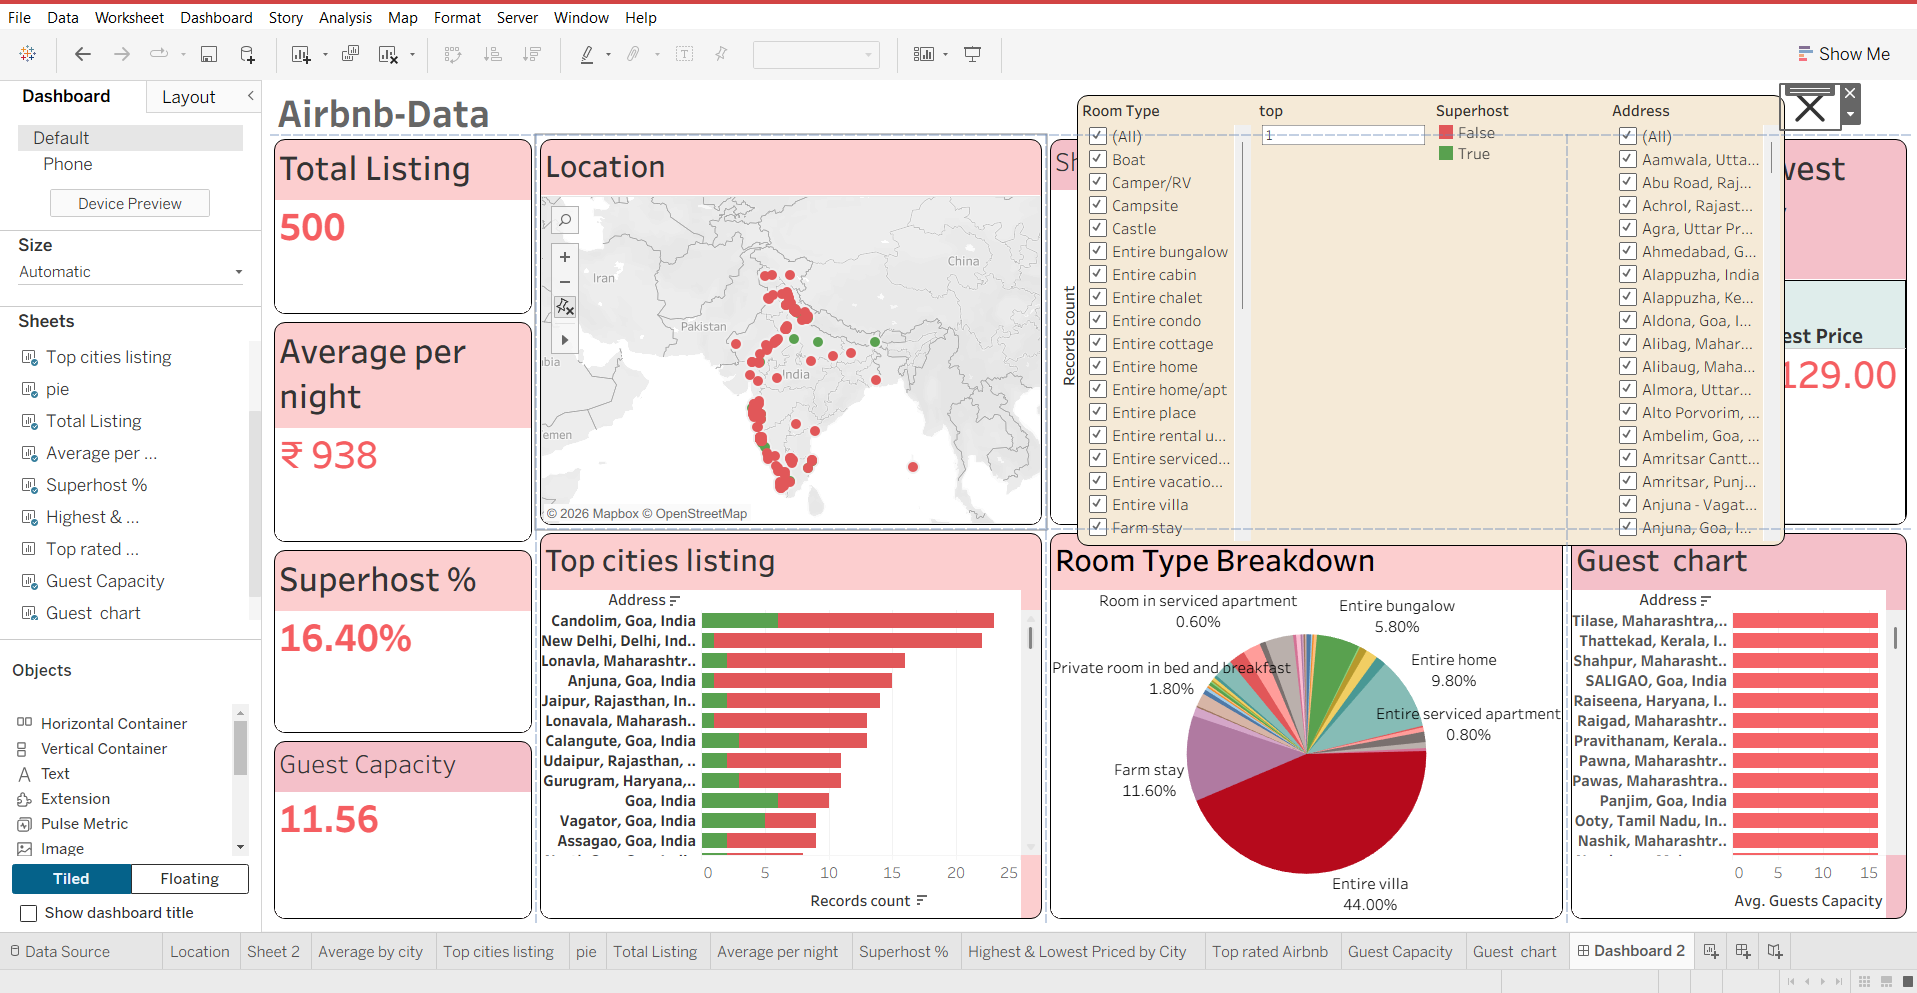

Layout of this report page (visuals, bound fields, positions):
{"tool":"tableau","page":{"name":"Dashboard 2","canvas":[1000,1000],"units":"permille","ordinal":1},"visuals":[{"type":"text","box":[4.8,9.4,990.4,55.2]},{"type":"worksheet","title":"Total Listing","mark":"Automatic","box":[4.8,64.6,160.7,159.3]},{"type":"worksheet","title":"Sheet 1","mark":"Automatic","rows":["location/lat"],"cols":["location/lng"],"box":[165.5,64.6,307.7,416]},{"type":"worksheet","title":"Guest  chart","mark":"Bar","rows":["address"],"cols":["numberOfGuests"],"box":[473.2,64.6,337.8,463]},{"type":"filter","title":"Average per night","param":"[federated.01k5xde1sjipj413ruxtb0xr965a].[none:roomType:nk]","box":[813.4,69.3,117.4,916.6]},{"type":"parameter","param":"[Parameters].[Parameter 1046778632982529]","box":[930.8,69.3,19.3,916.6]},{"type":"legend","title":"Sheet 1","param":"[federated.01k5xde1sjipj413ruxtb0xr965a].[none:isHostedBySuperhost:nk]","box":[950,69.3,42.8,916.6]},{"type":"worksheet","title":"Average per night","mark":"Automatic","box":[4.8,224,160.7,212.2]},{"type":"worksheet","title":"Superhost %","mark":"Automatic","box":[4.8,436.2,160.7,159.3]},{"type":"worksheet","title":"top cities listing","mark":"Automatic","rows":["address"],"cols":["Calculation_1046778630561792"],"box":[165.5,480.6,307.7,510]},{"type":"worksheet","title":"pie","mark":"Pie","box":[473.2,527.6,337.8,463]},{"type":"worksheet","title":"Highest & Lowest Priced by City","mark":"Automatic","box":[4.8,595.5,160.7,395.1]}]}

Visuals, with their boxes on the dashboard's canvas, which has no fixed pixel size, in thousandths of its width and height (x1, y1, x2, y2). These are canvas units, not pixel positions in the 1917x993 screenshot, which may show the page scaled, cropped or inside an application window:
text: {"x1": 5, "y1": 9, "x2": 995, "y2": 65}
"Total Listing" worksheet: {"x1": 5, "y1": 65, "x2": 166, "y2": 224}
"Sheet 1" worksheet: {"x1": 166, "y1": 65, "x2": 473, "y2": 481}
"Guest  chart" worksheet (Bar marks): {"x1": 473, "y1": 65, "x2": 811, "y2": 528}
"Average per night" filter: {"x1": 813, "y1": 69, "x2": 931, "y2": 986}
parameter: {"x1": 931, "y1": 69, "x2": 950, "y2": 986}
"Sheet 1" legend: {"x1": 950, "y1": 69, "x2": 993, "y2": 986}
"Average per night" worksheet: {"x1": 5, "y1": 224, "x2": 166, "y2": 436}
"Superhost %" worksheet: {"x1": 5, "y1": 436, "x2": 166, "y2": 596}
"top cities listing" worksheet: {"x1": 166, "y1": 481, "x2": 473, "y2": 991}
"pie" worksheet (Pie marks): {"x1": 473, "y1": 528, "x2": 811, "y2": 991}
"Highest & Lowest Priced by City" worksheet: {"x1": 5, "y1": 596, "x2": 166, "y2": 991}
